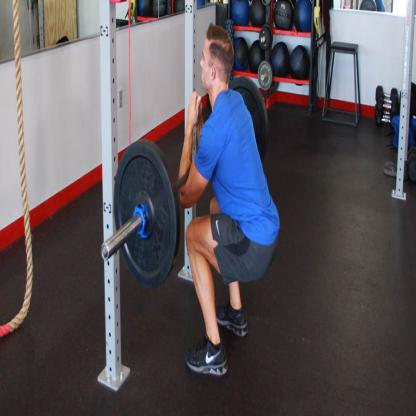Barbell: (109, 135, 183, 294)
